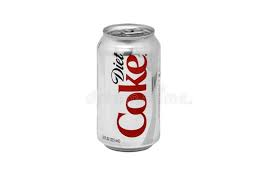can: (86, 18, 169, 156)
